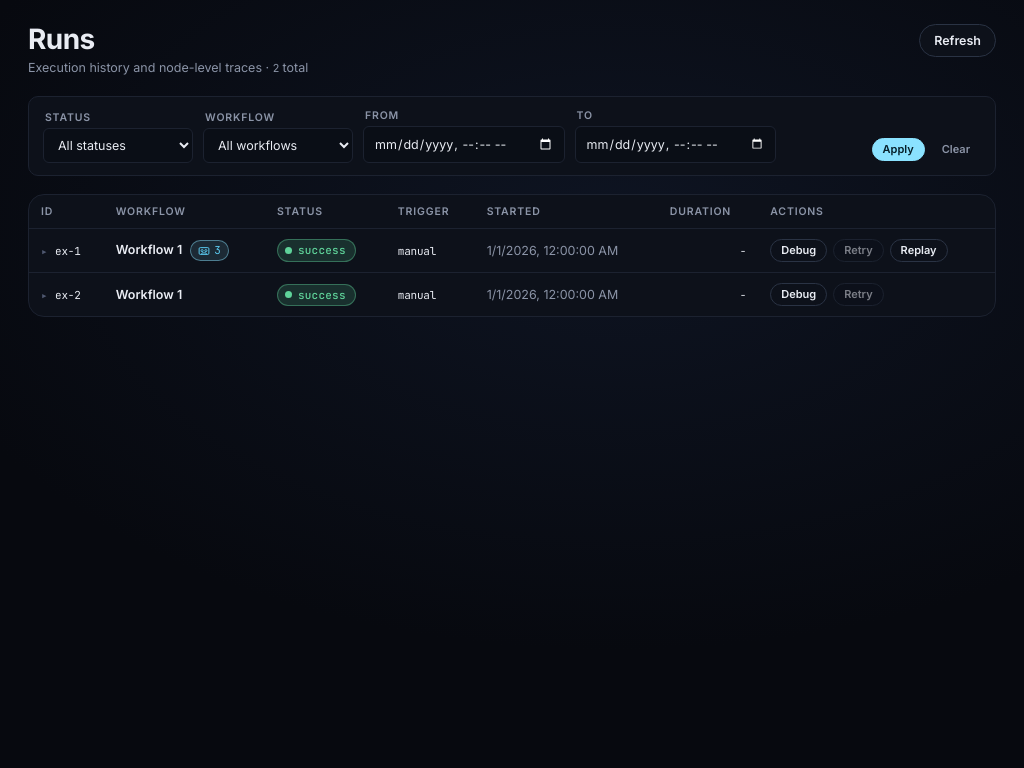
ExecutionHistoryPanel › shows a cassette badge on recorded runs, replays them and opens the cassette viewer
Click the button "Replay".
click(919, 251)  # box [890,239,948,262]
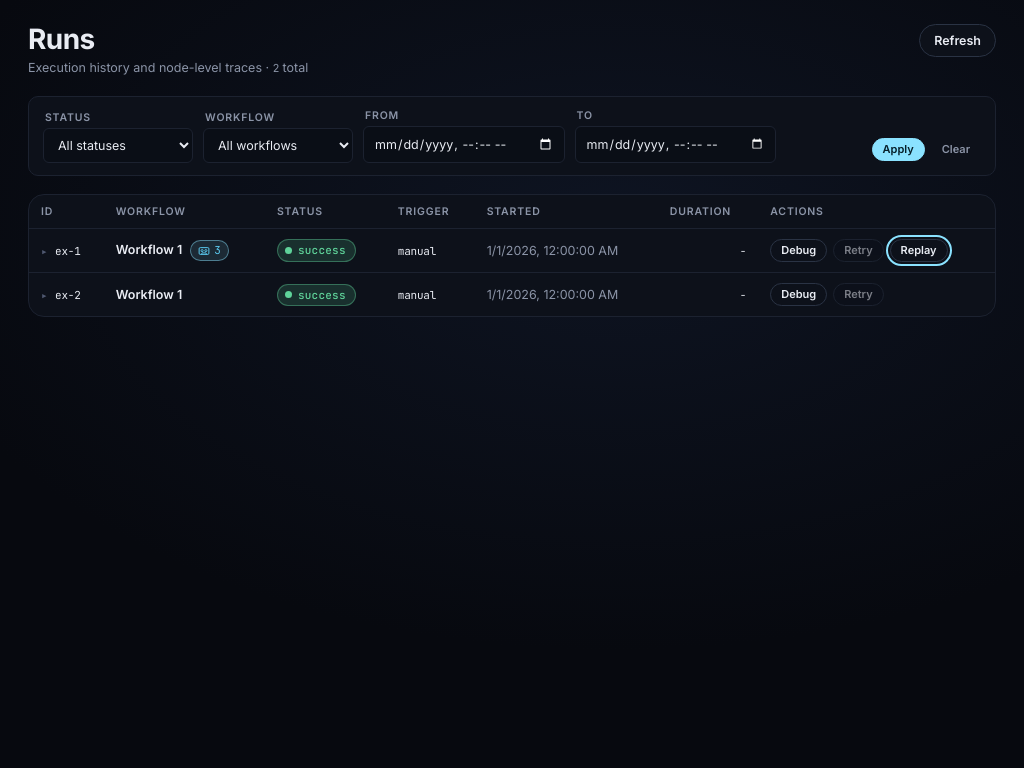
Click the button named "3 MCP calls recorded".
click(210, 251)  # box [190,240,229,261]
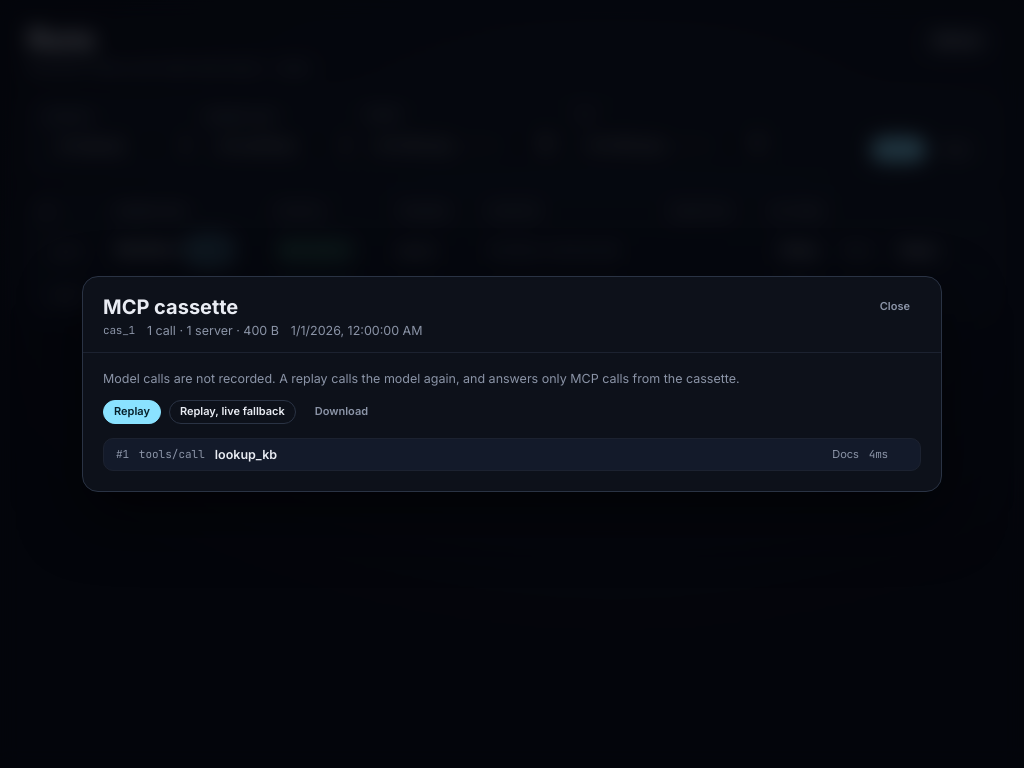
Check: the text "lookup_kb" is shown, box [215,447,277,462]
Check: the text "Docs" is shown, box [832,447,859,461]
Check: the text "Model calls are not recorded" is shown, box [103,371,740,386]
Click the button "Replay, live fallback".
click(232, 412)  # box [169,400,296,424]
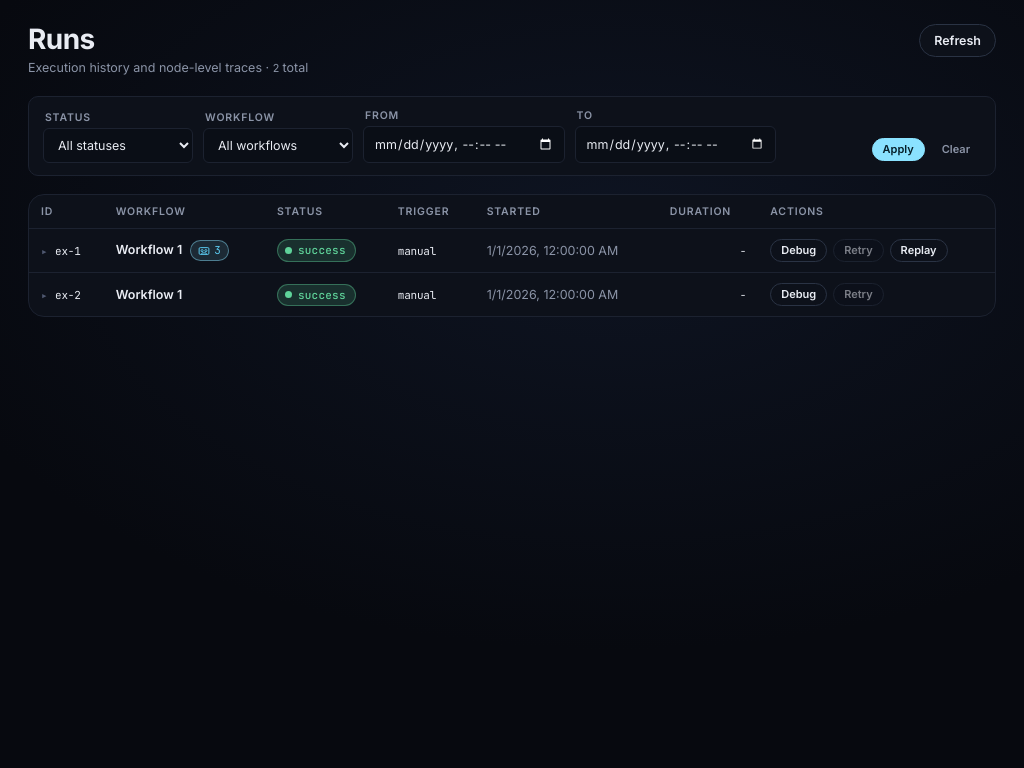
Check: the heading "MCP cassette" is gone
